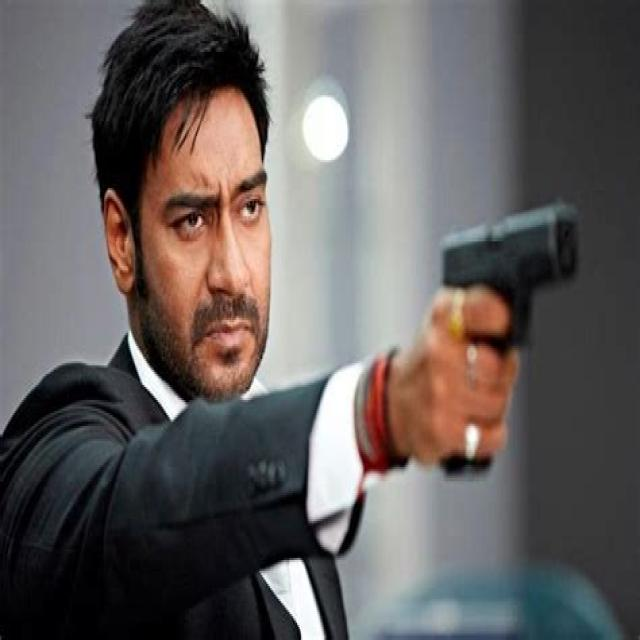weapons: (423, 187, 600, 489)
